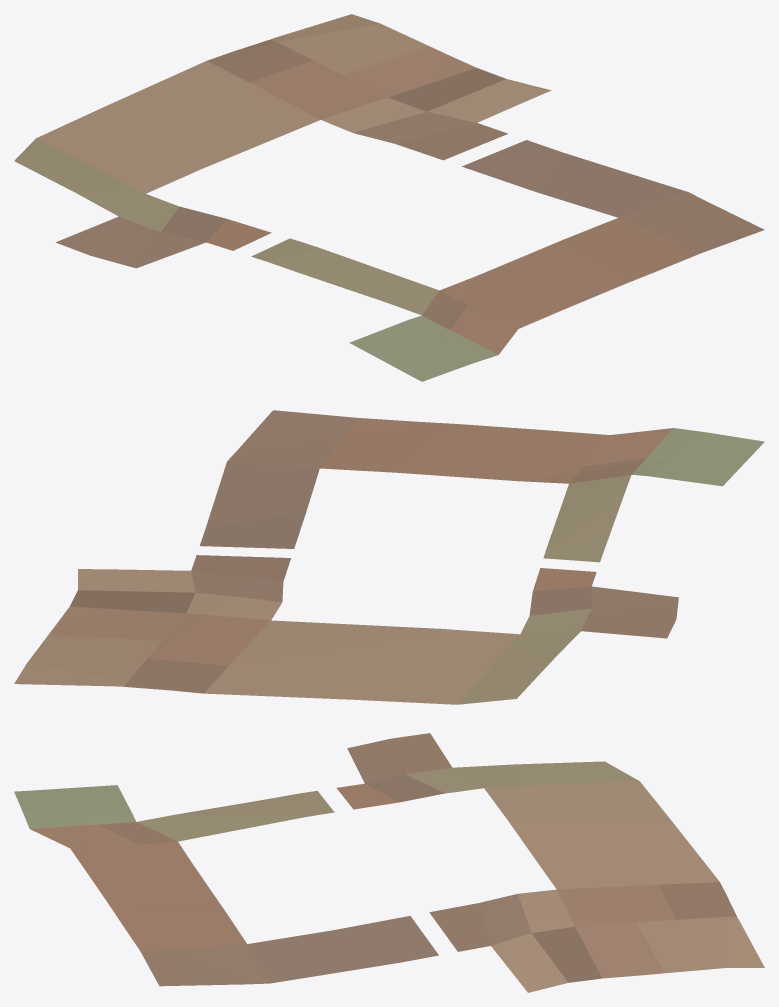
File: farm_25_9_soil.glb
The picture shows the model from 3 angles, top to bottom: view 1: azimuth 30°, elevation 25°; view 2: azimuth 150°, elevation 25°; view 3: azimuth 270°, elevation 25°; orthographic projection. The views are drawn at different scales.
Visible parts, largest first — view 1: geometry_0; view 2: geometry_0; view 3: geometry_0.
Boxes of the visible parts, box(x1,y1,x2,y2) form: geometry_0: box(14, 14, 764, 381); geometry_0: box(14, 410, 764, 704); geometry_0: box(14, 733, 764, 992).
Size of the model in its own units: 215 by 10.17 by 282.
